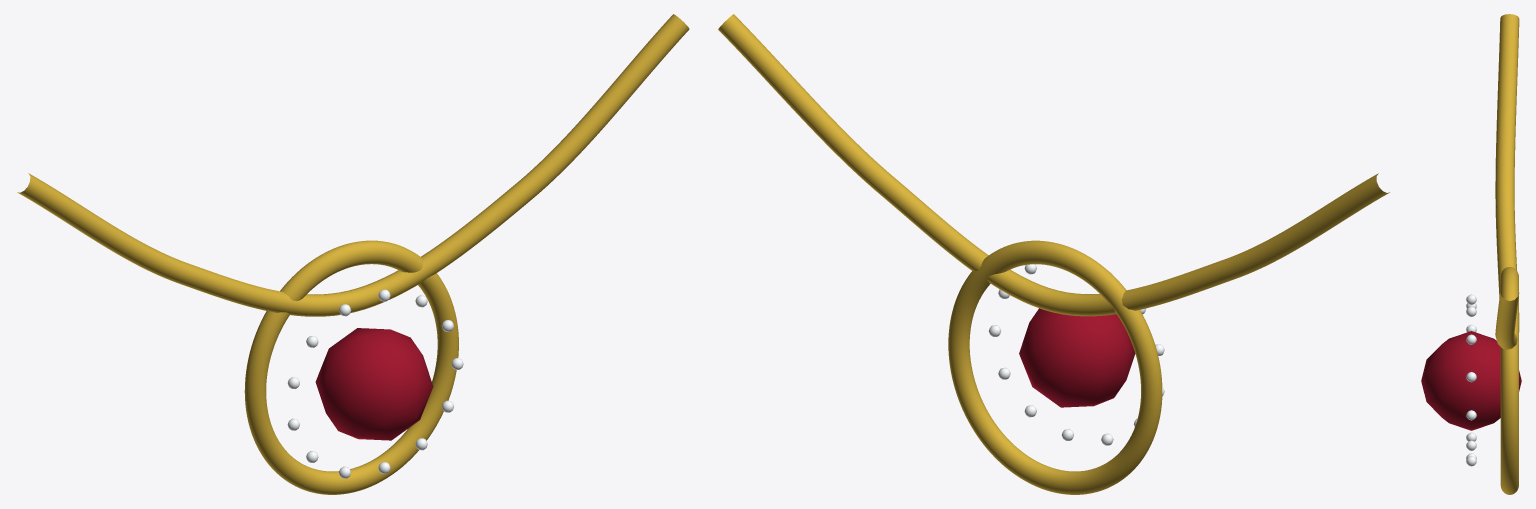
File: royal-ruby-high-necklace.glb
The picture shows the model from 3 angles, left to right: view 1: azimuth 30°, elevation 25°; view 2: azimuth 150°, elevation 25°; view 3: azimuth 270°, elevation 25°; orthographic projection. The views are drawn at different scales.
Parts seen in each view (by area): view 1: chain, pendant_frame, pendant_gem; view 2: chain, pendant_frame, pendant_gem; view 3: pendant_gem, chain, pendant_frame.
Part boxes in pixels (x1=…): chain: x1=17, y1=14, x2=689, y2=316; pendant_frame: x1=244, y1=240, x2=458, y2=494; pendant_gem: x1=315, y1=328, x2=433, y2=440; chain: x1=718, y1=14, x2=1389, y2=316; pendant_frame: x1=948, y1=240, x2=1162, y2=494; pendant_gem: x1=1019, y1=308, x2=1135, y2=407; pendant_gem: x1=1421, y1=331, x2=1521, y2=430; chain: x1=1495, y1=14, x2=1519, y2=349; pendant_frame: x1=1500, y1=267, x2=1518, y2=494.
Size of the model in its own units: 2.75 by 1.56 by 0.42.
